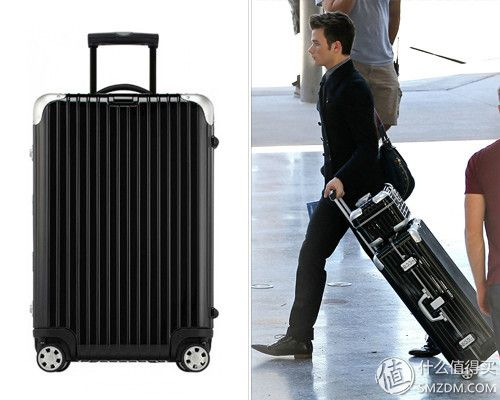luggage: (29, 32, 223, 370)
